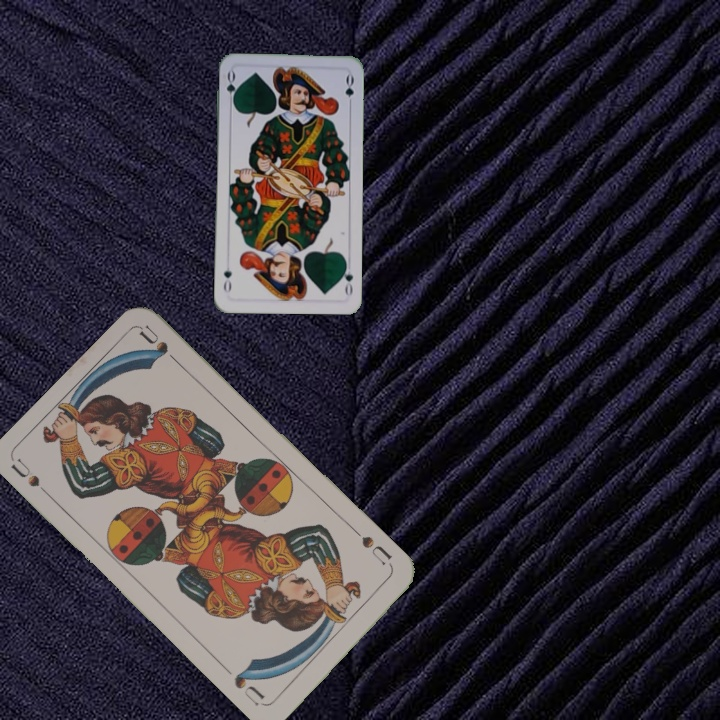GO: (338, 258, 355, 298), (223, 68, 238, 108)
SU: (7, 455, 58, 504), (350, 526, 395, 568)
